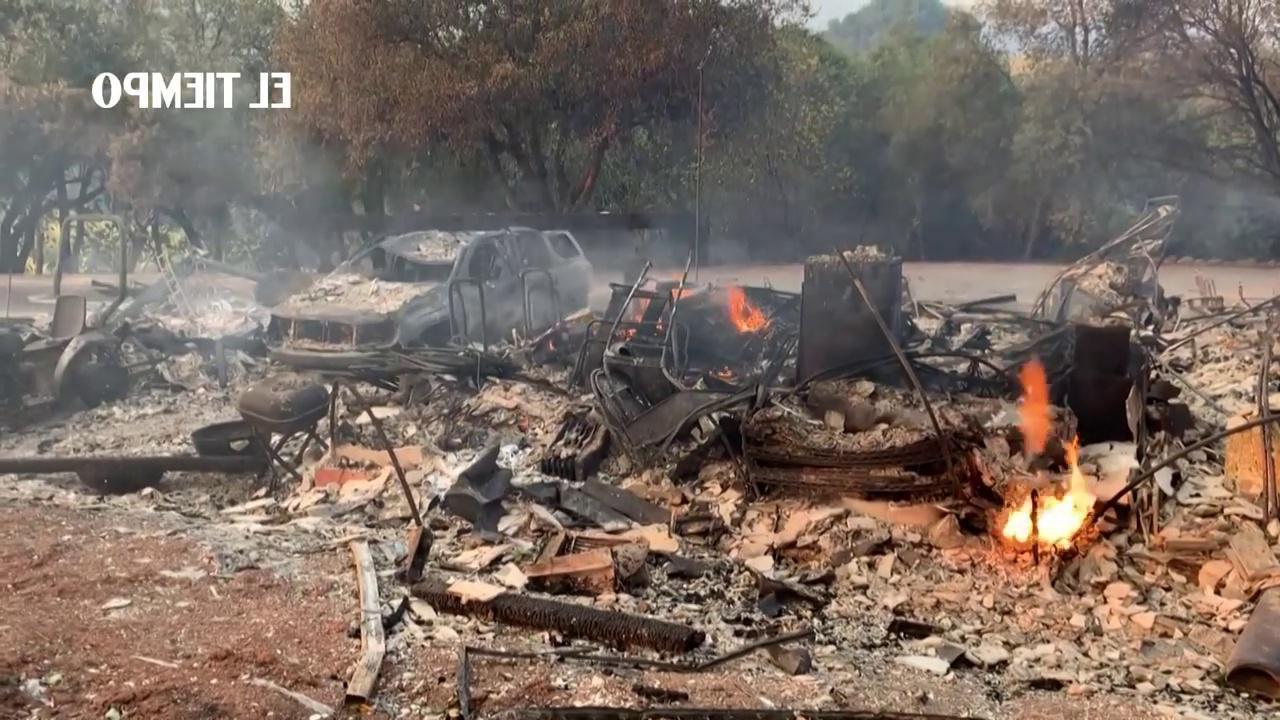Fire: (1004, 457, 1106, 544), (1012, 364, 1053, 450), (727, 285, 770, 334)
